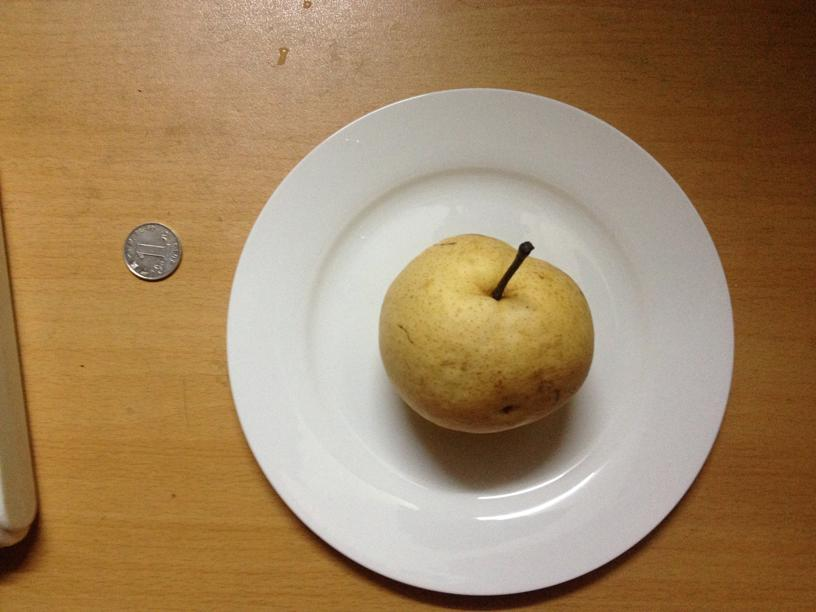coin: (122, 222, 182, 281)
pear: (382, 233, 595, 433)
